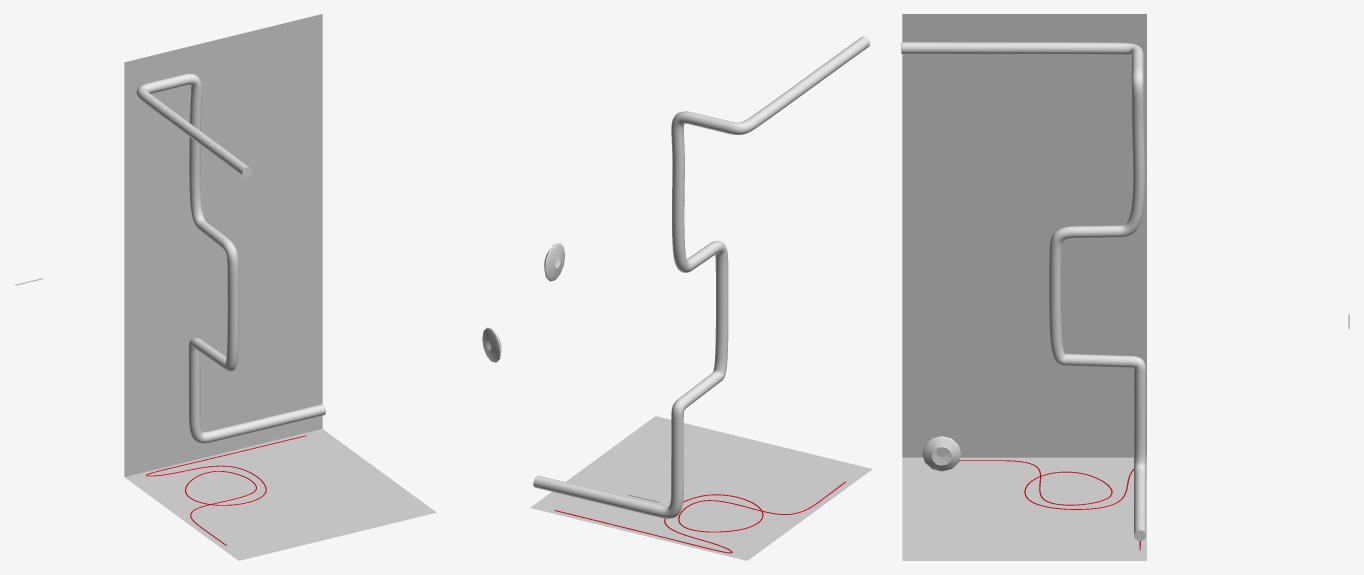
Rendered from LB08_miss04.glb.
The picture shows the model from 3 angles, left to right: view 1: azimuth 30°, elevation 25°; view 2: azimuth 150°, elevation 25°; view 3: azimuth 270°, elevation 25°; orthographic projection. The views are drawn at different scales.
Visible parts, largest first — view 1: Plane.009, Plane.008, Труба, NurbsCurve; view 2: Plane.008, Труба, NurbsCurve, Segment2; view 3: Plane.010, Plane.008, Труба, Segment2, NurbsCurve.
Boxes of the visible parts, left/top/right/bottom form: Plane.009: left=124, top=14, right=322, bottom=476; Plane.008: left=124, top=429, right=436, bottom=560; Труба: left=136, top=73, right=325, bottom=443; NurbsCurve: left=146, top=435, right=305, bottom=545; Plane.008: left=530, top=416, right=872, bottom=560; Труба: left=533, top=36, right=869, bottom=518; NurbsCurve: left=554, top=481, right=845, bottom=553; Segment2: left=544, top=243, right=565, bottom=281; Plane.010: left=902, top=14, right=1146, bottom=457; Plane.008: left=902, top=457, right=1146, bottom=560; Труба: left=901, top=42, right=1146, bottom=541; Segment2: left=922, top=436, right=961, bottom=471; NurbsCurve: left=959, top=460, right=1140, bottom=550.
Size of the model in its own units: 2.94 by 4.01 by 3.67.
